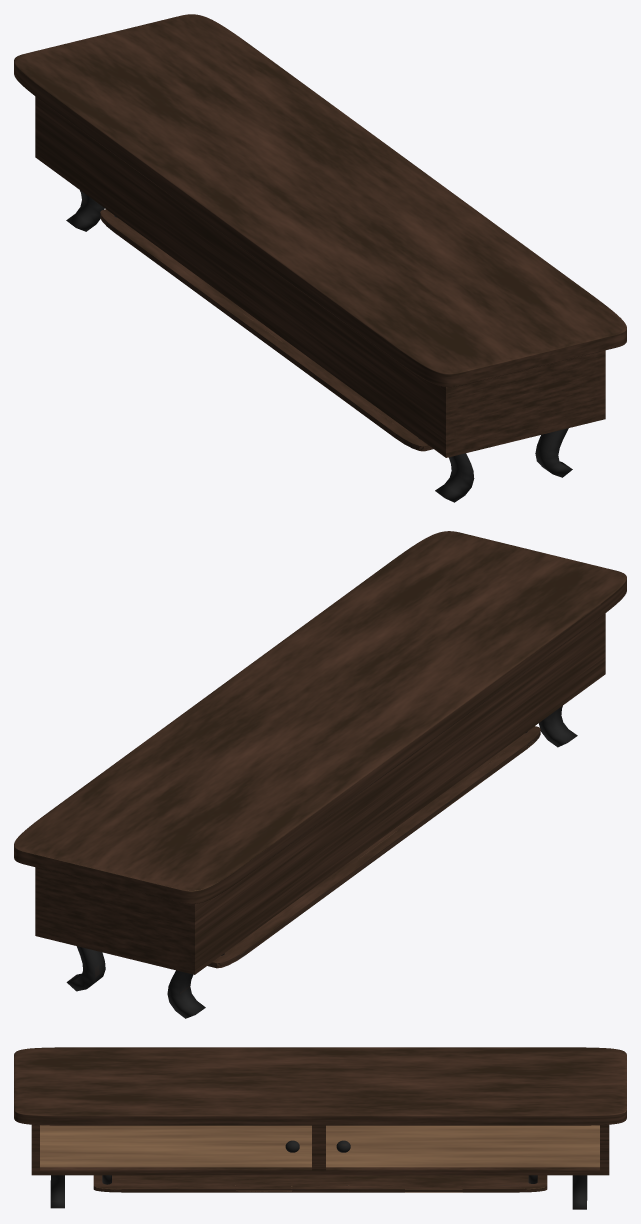
Rendered from fancy_tv_stand.fbx.
3 renders of one model, top to bottom at view 1: azimuth 30°, elevation 25°; view 2: azimuth 150°, elevation 25°; view 3: azimuth 270°, elevation 25°, orthographic. The views are drawn at different scales.
Parts seen in each view (by area): view 1: Cube.017; view 2: Cube.017; view 3: Cube.017.
Boxes of the visible parts, x1,y1,x2,y2 form: Cube.017: (14, 14, 626, 502); Cube.017: (14, 531, 626, 1018); Cube.017: (14, 1047, 626, 1209).
Bounding box in the file's own units: 480 × 360 × 1807.
Materials: 1 (1 with a texture image).
